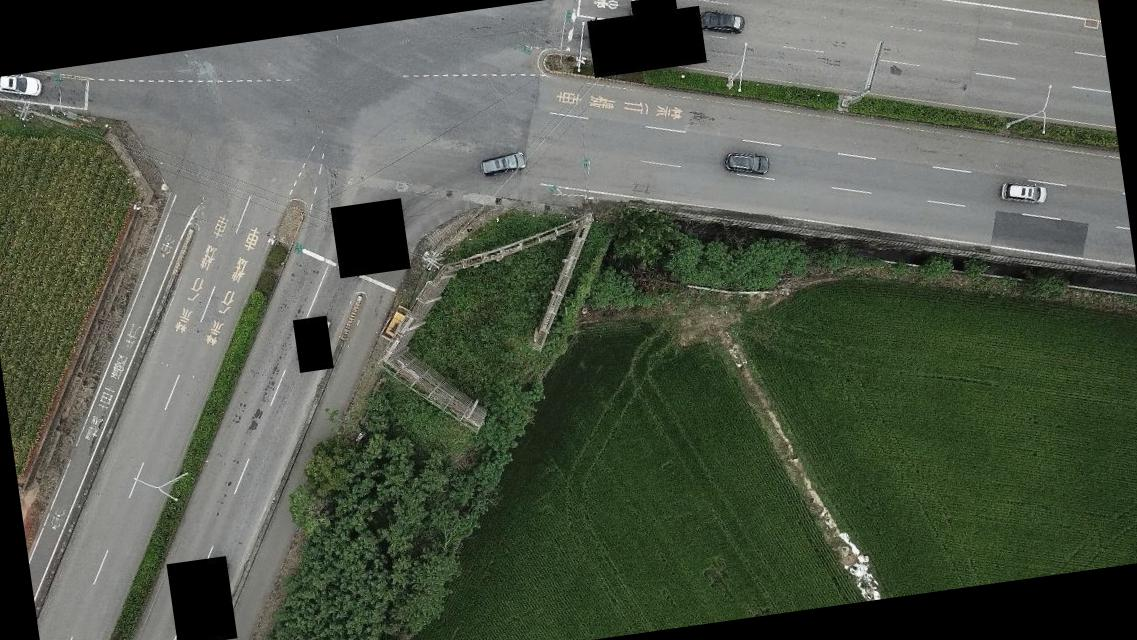vehicle: (998, 178, 1050, 210), (722, 148, 772, 180), (697, 8, 747, 40), (0, 71, 44, 103), (478, 150, 528, 177), (382, 304, 411, 338)
